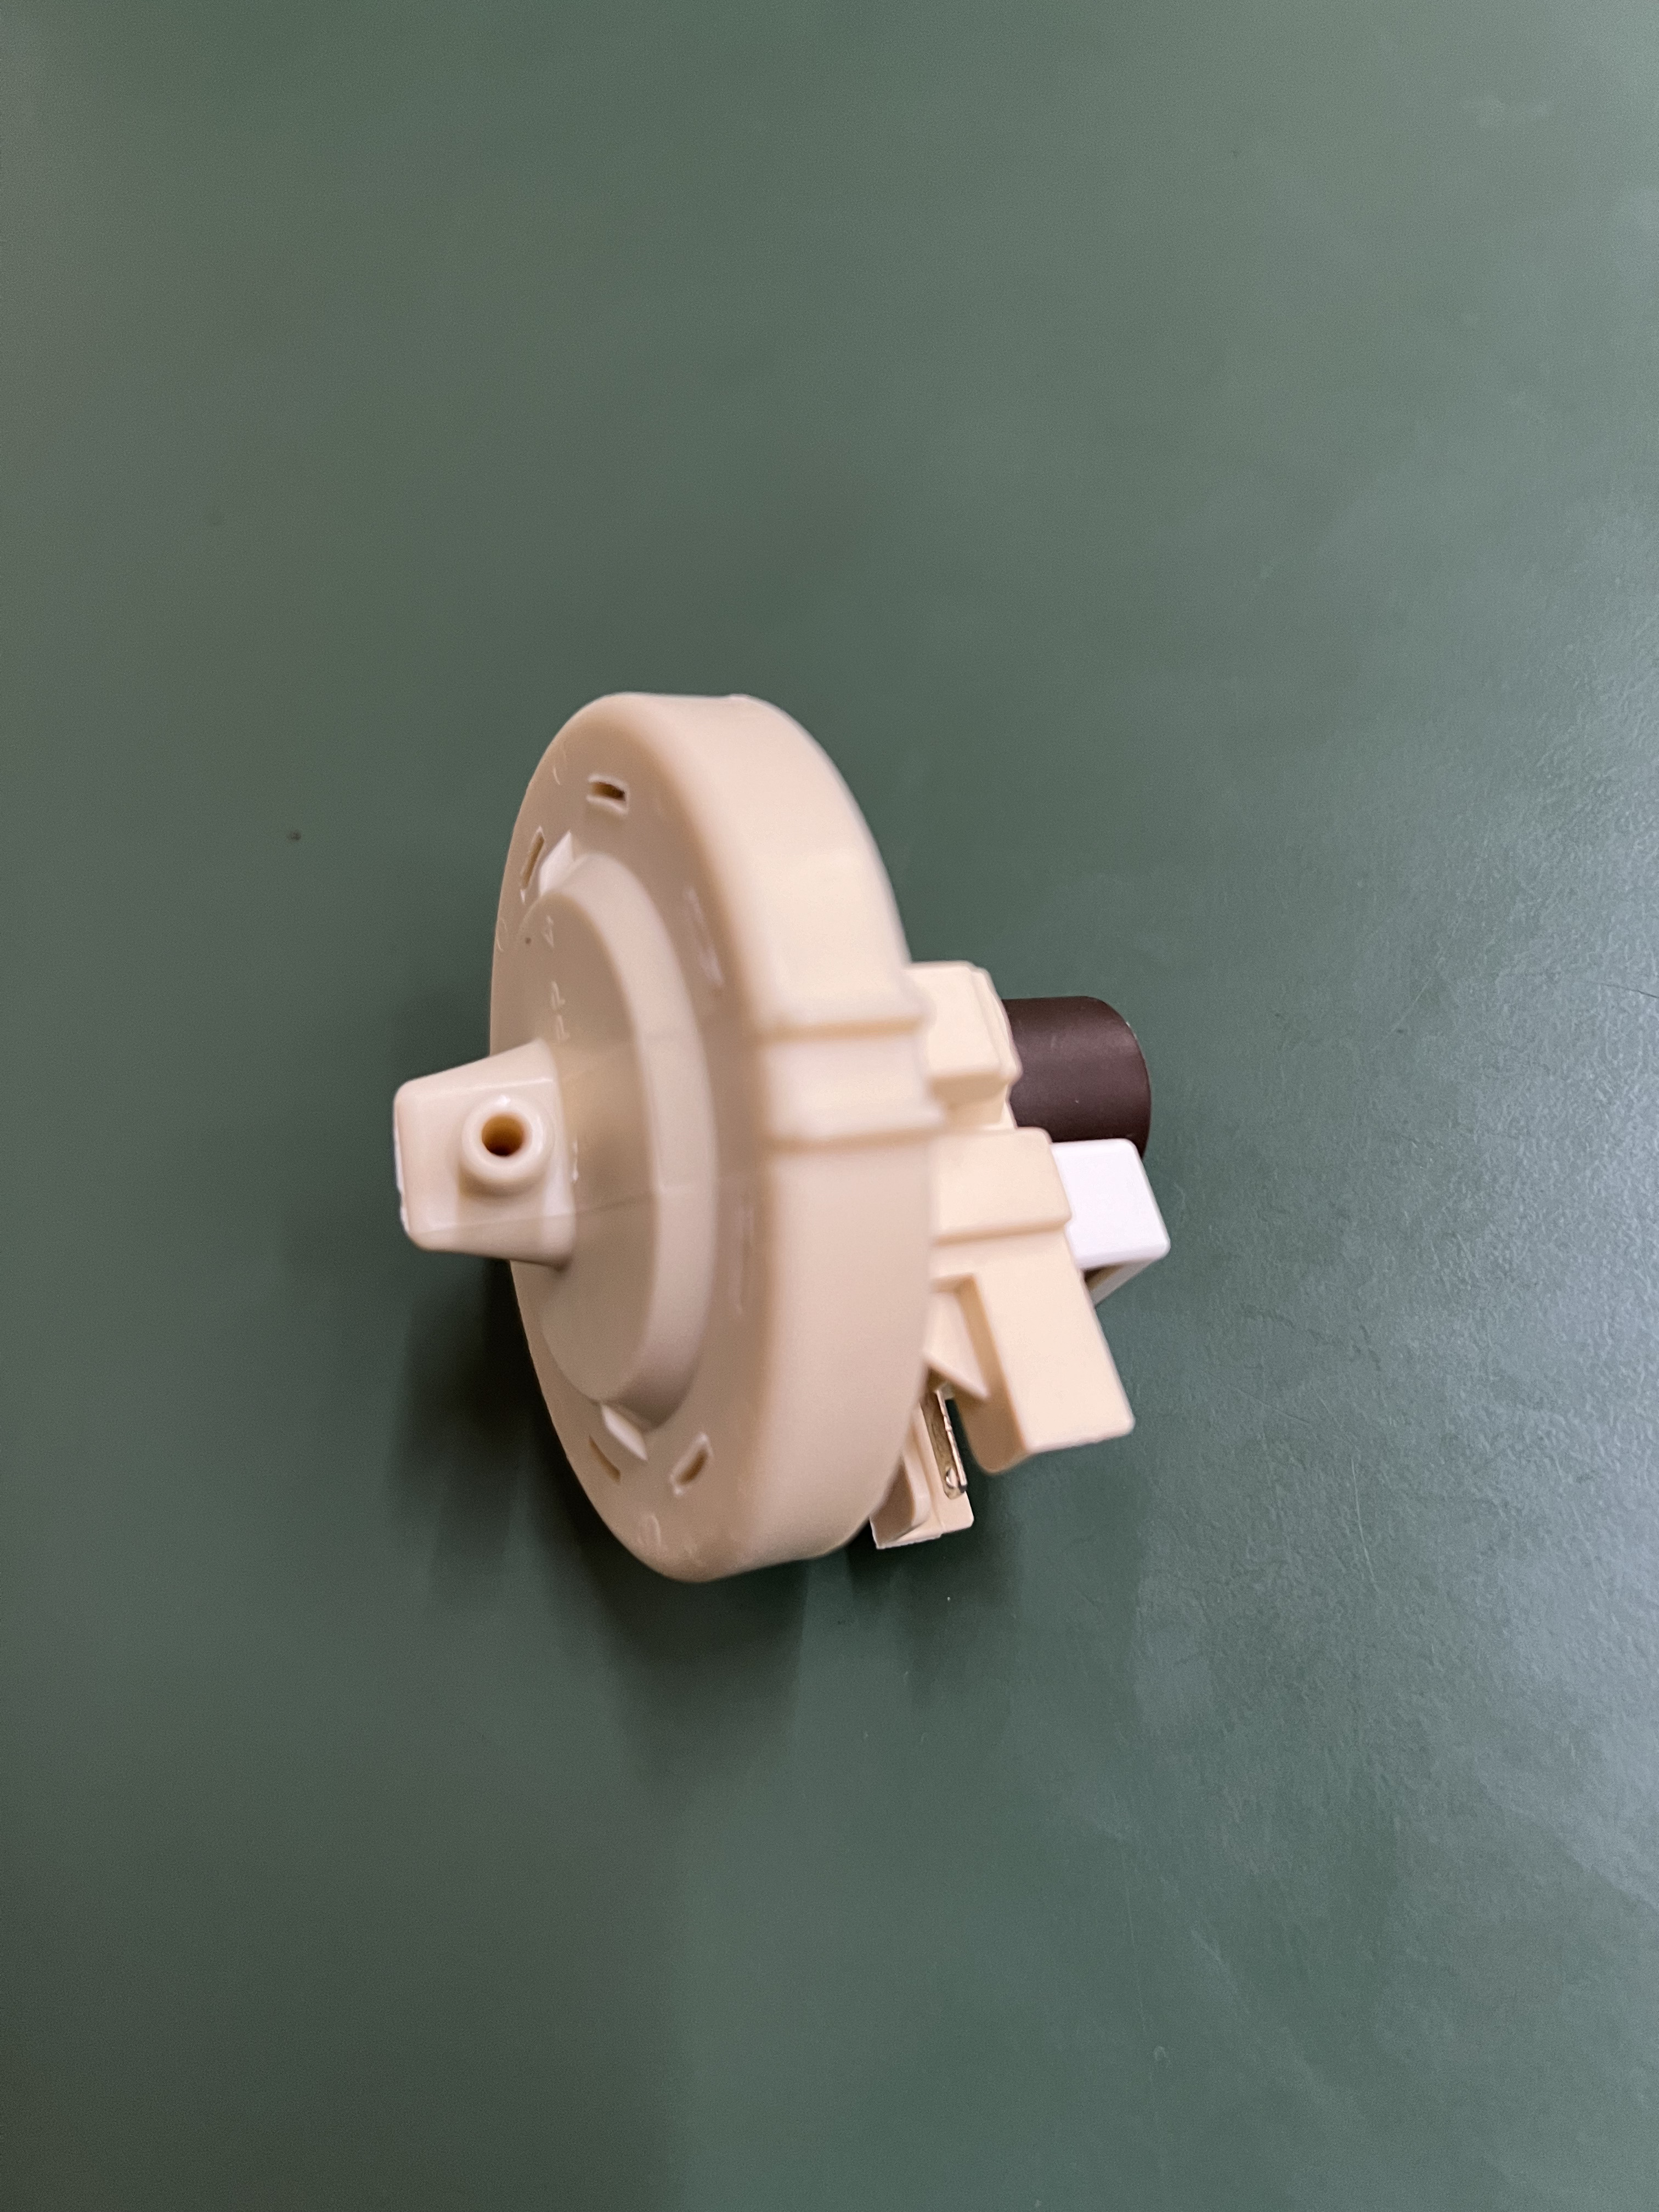pressure_sensor: (403, 678, 1218, 1601)
